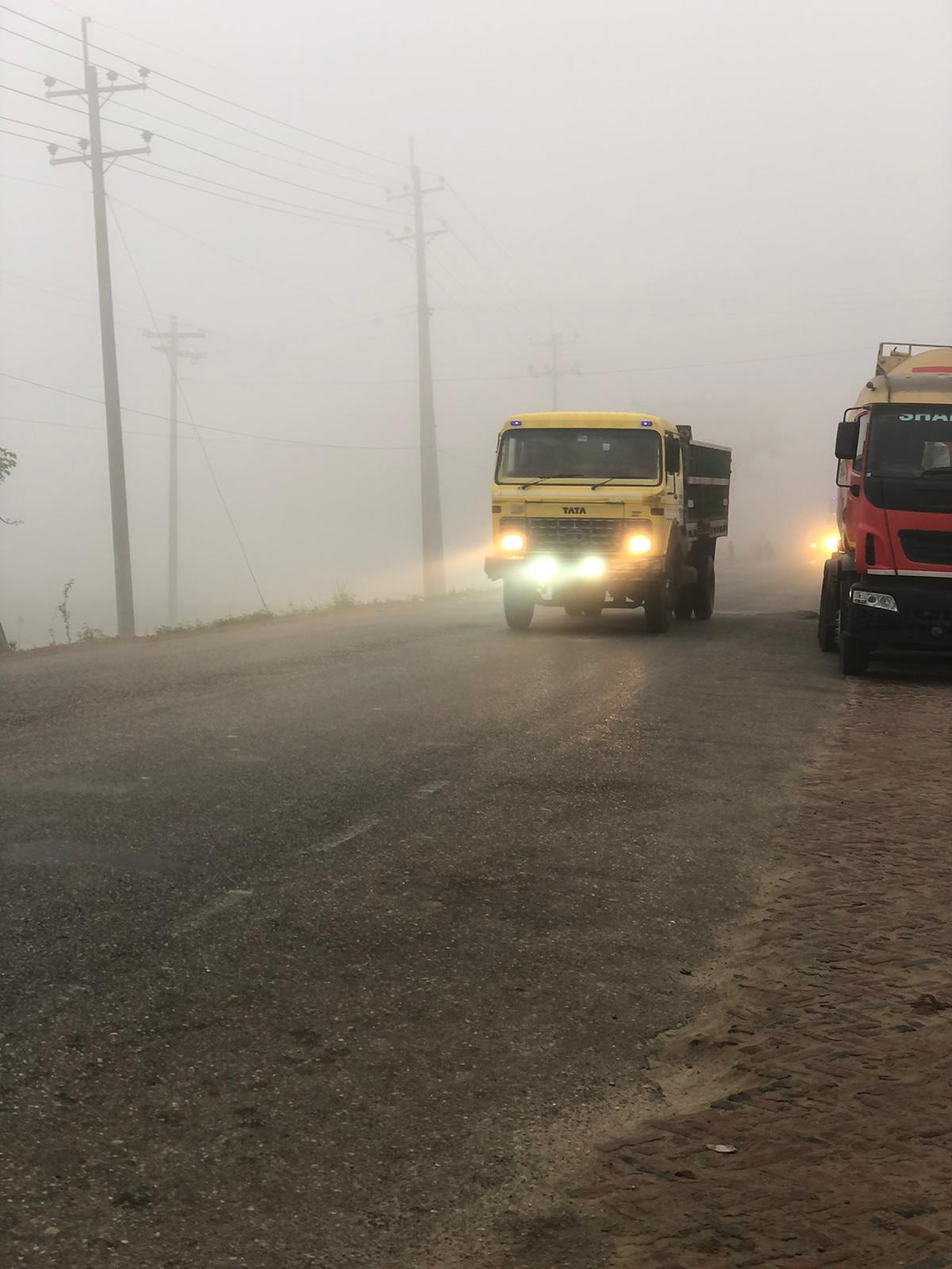Truck: (476, 408, 755, 645), (809, 321, 952, 690)
